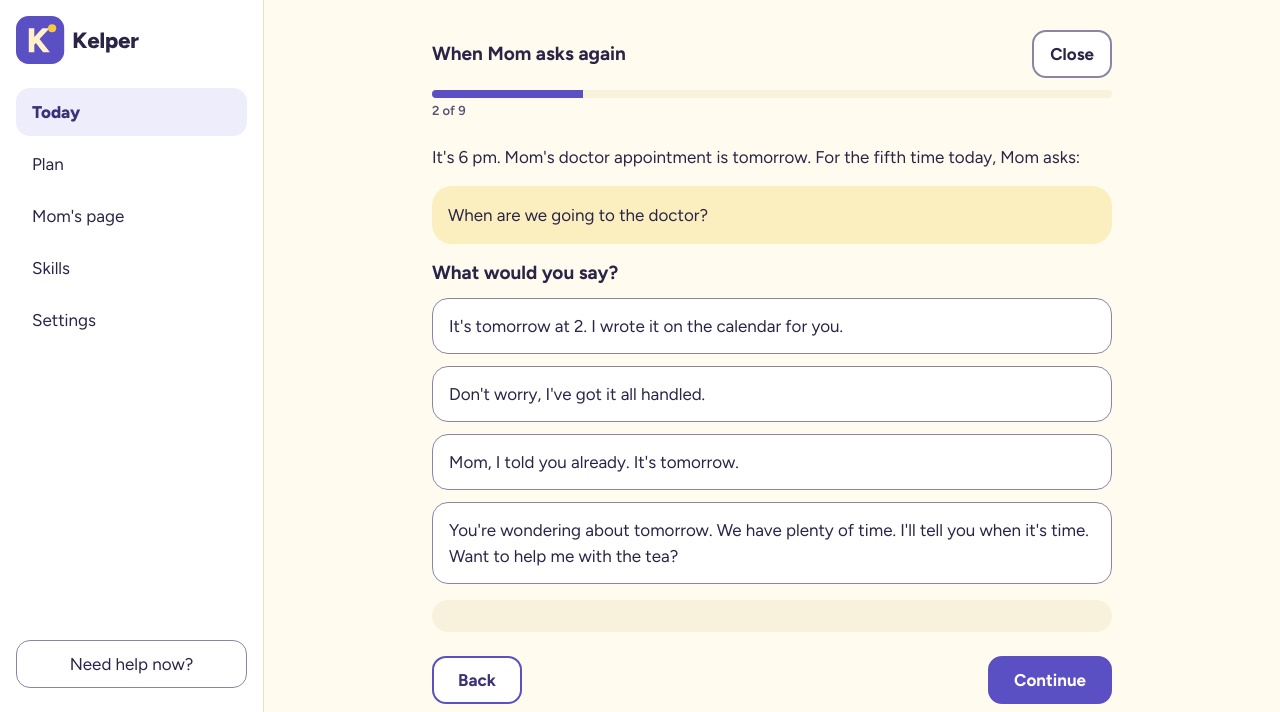
plan screen › prefills from the newest phrase saved in this lesson
The width and height of the screenshot is (1280, 712).
Earlier steps of the test are not shown.
Click the button "Continue": (1050, 680) [988,656,1112,704]
(page scrolled)
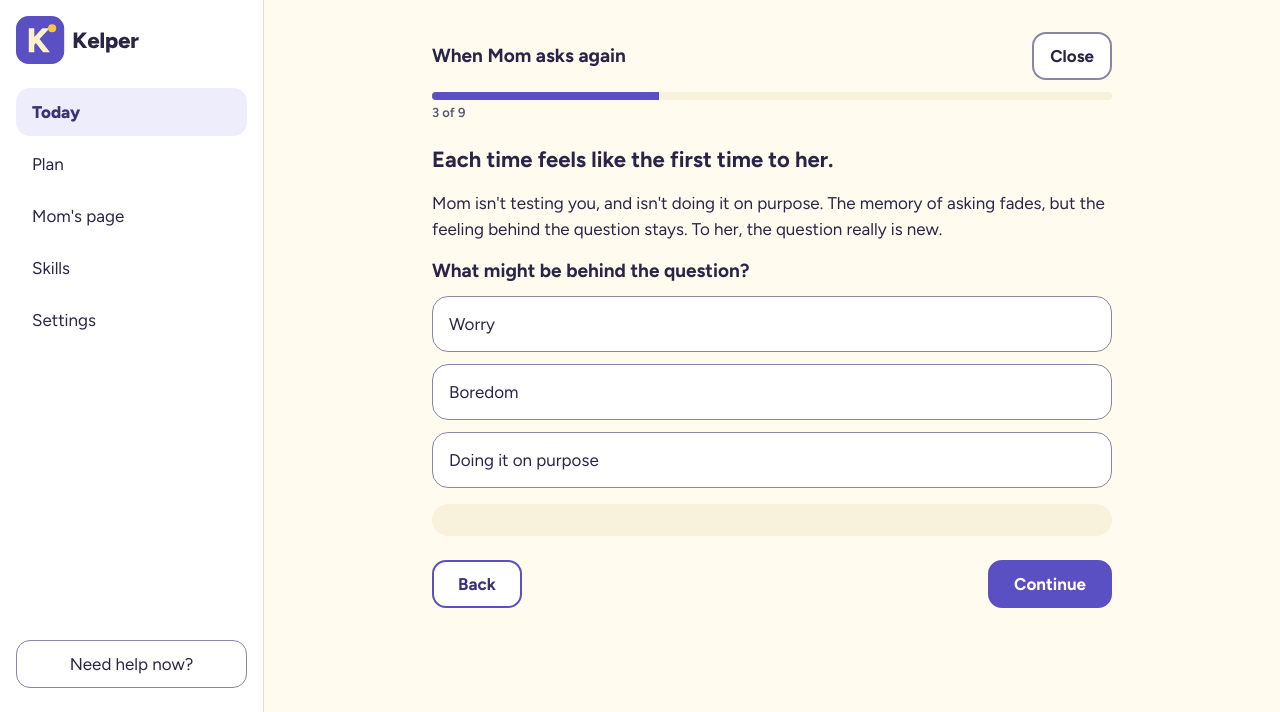
Click the button "Continue": (1050, 584) [988,560,1112,608]
(page scrolled)
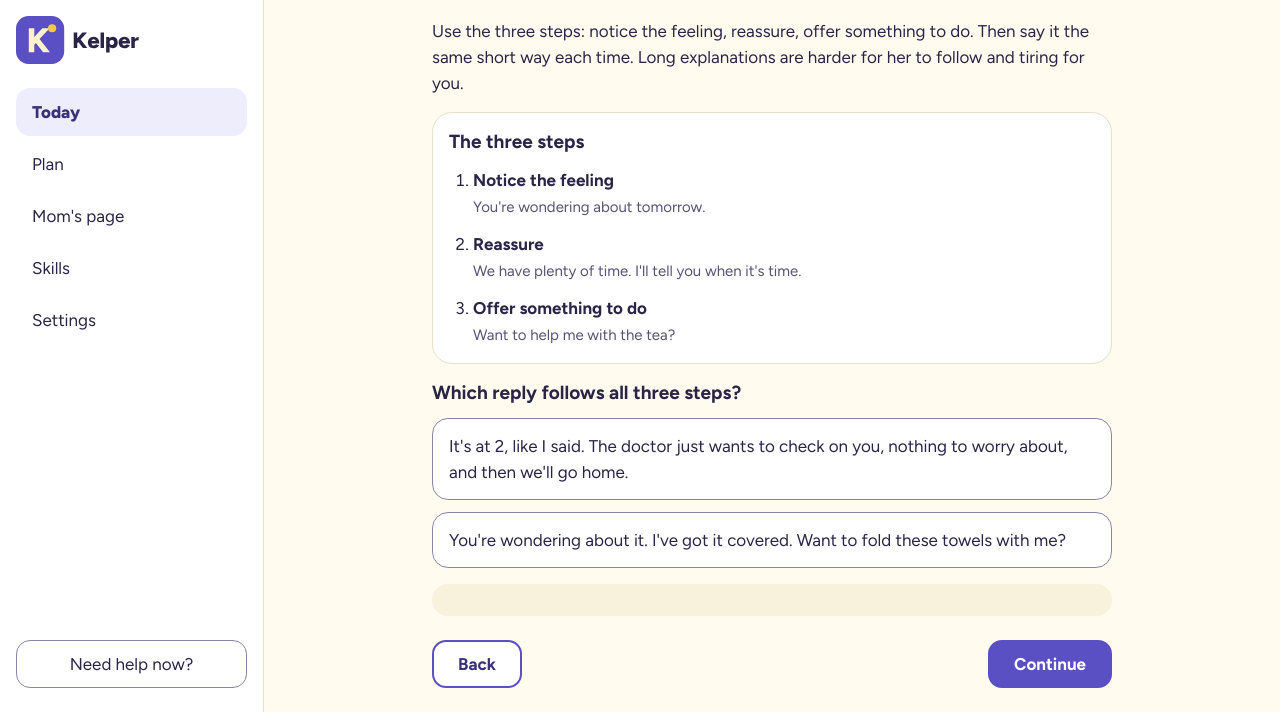
Click the button "Continue": (1050, 664) [988,640,1112,688]
(page scrolled)
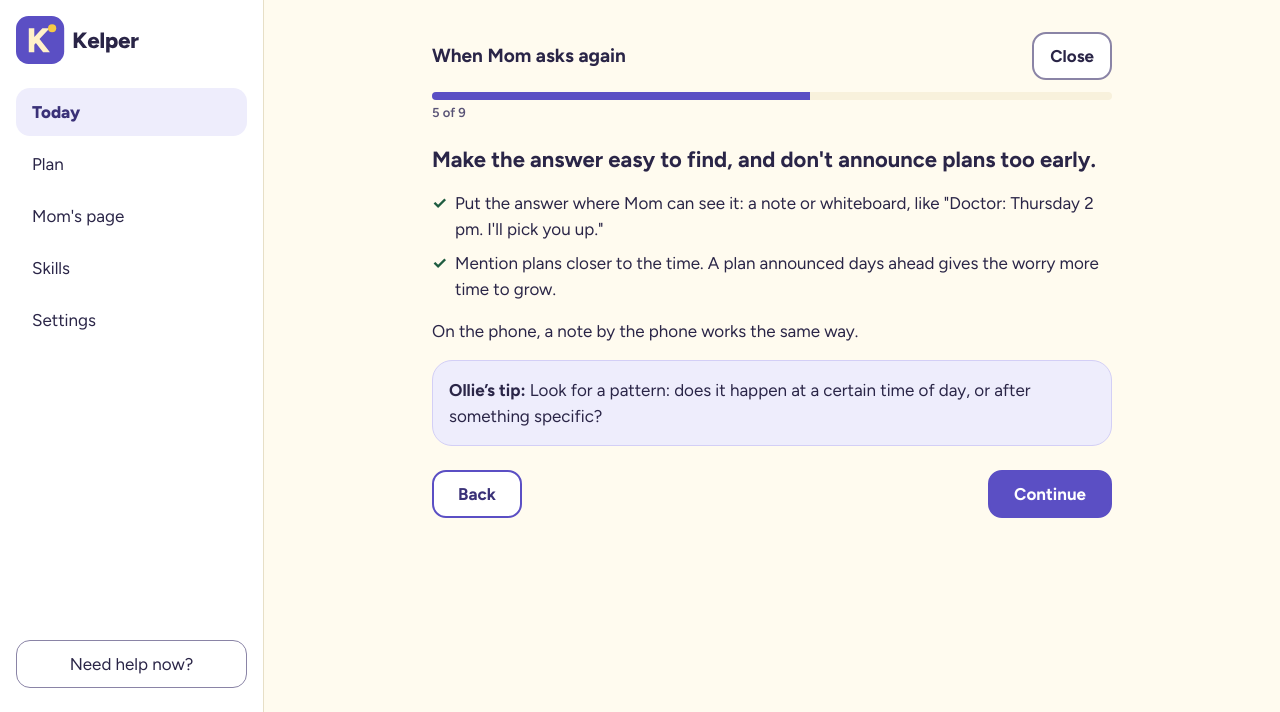
Click the button "Continue": (1050, 494) [988,470,1112,518]
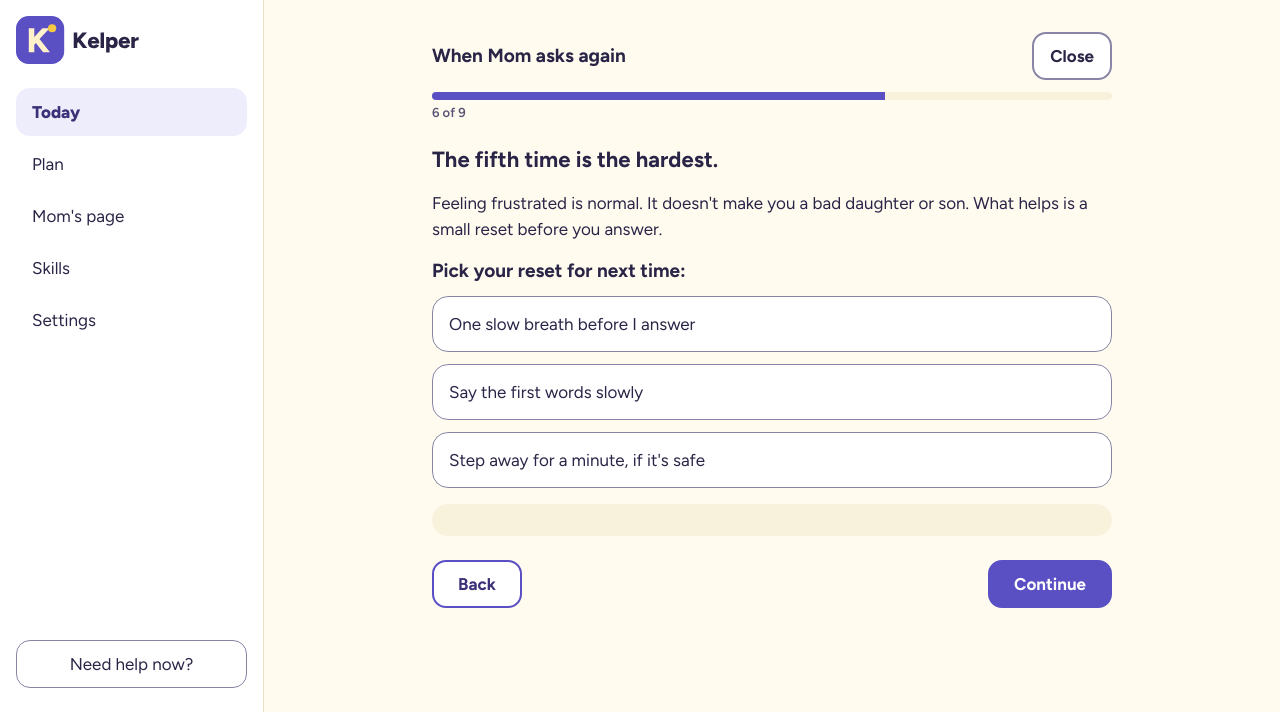
Click the button "Continue": (1050, 584) [988,560,1112,608]
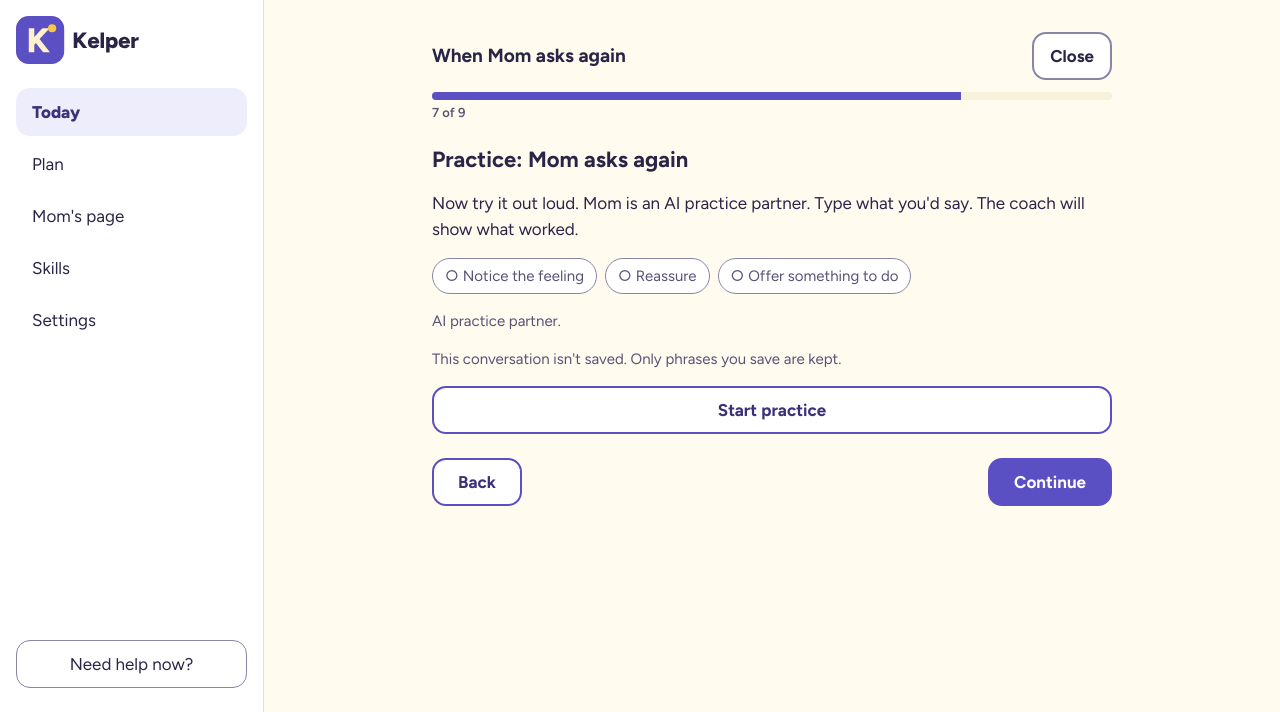
Click the button "Continue": (1050, 482) [988,458,1112,506]
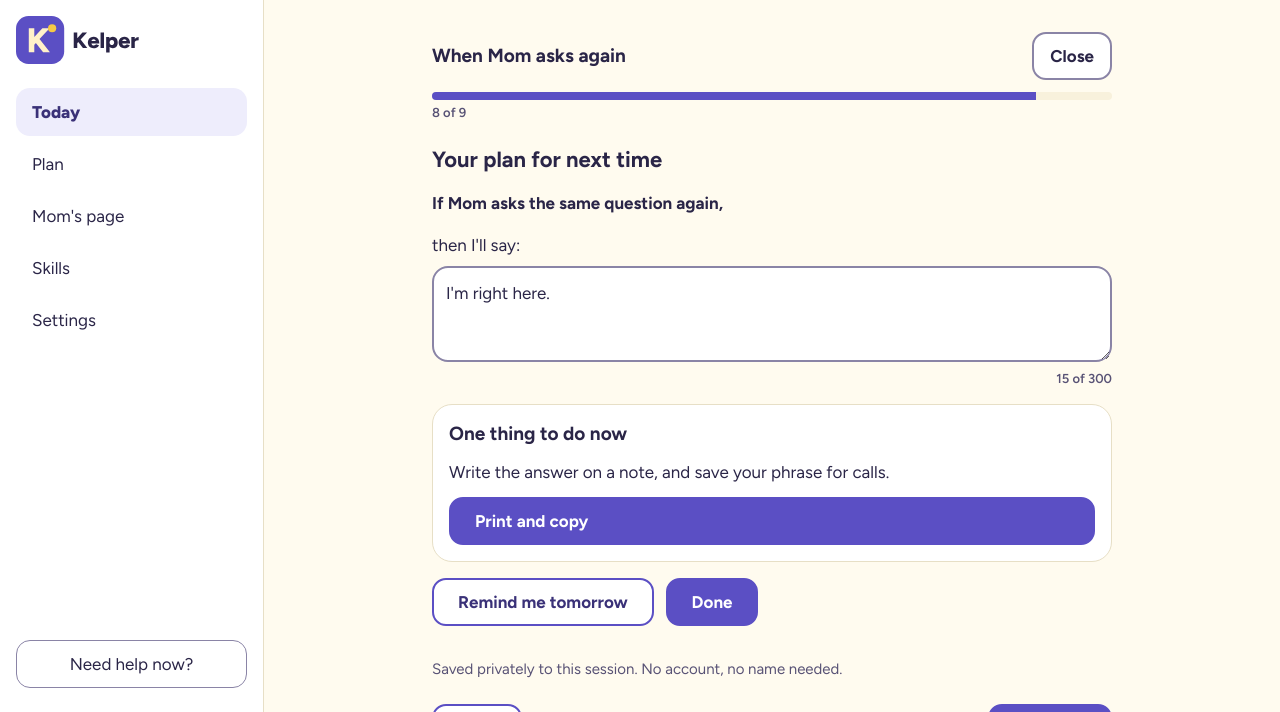
Expected: the heading "Your plan for next time" is shown, [432,146,662,173]
Expected: the text box labelled "then I'll say:" holds "I'm right here.", [432,266,1112,362]
